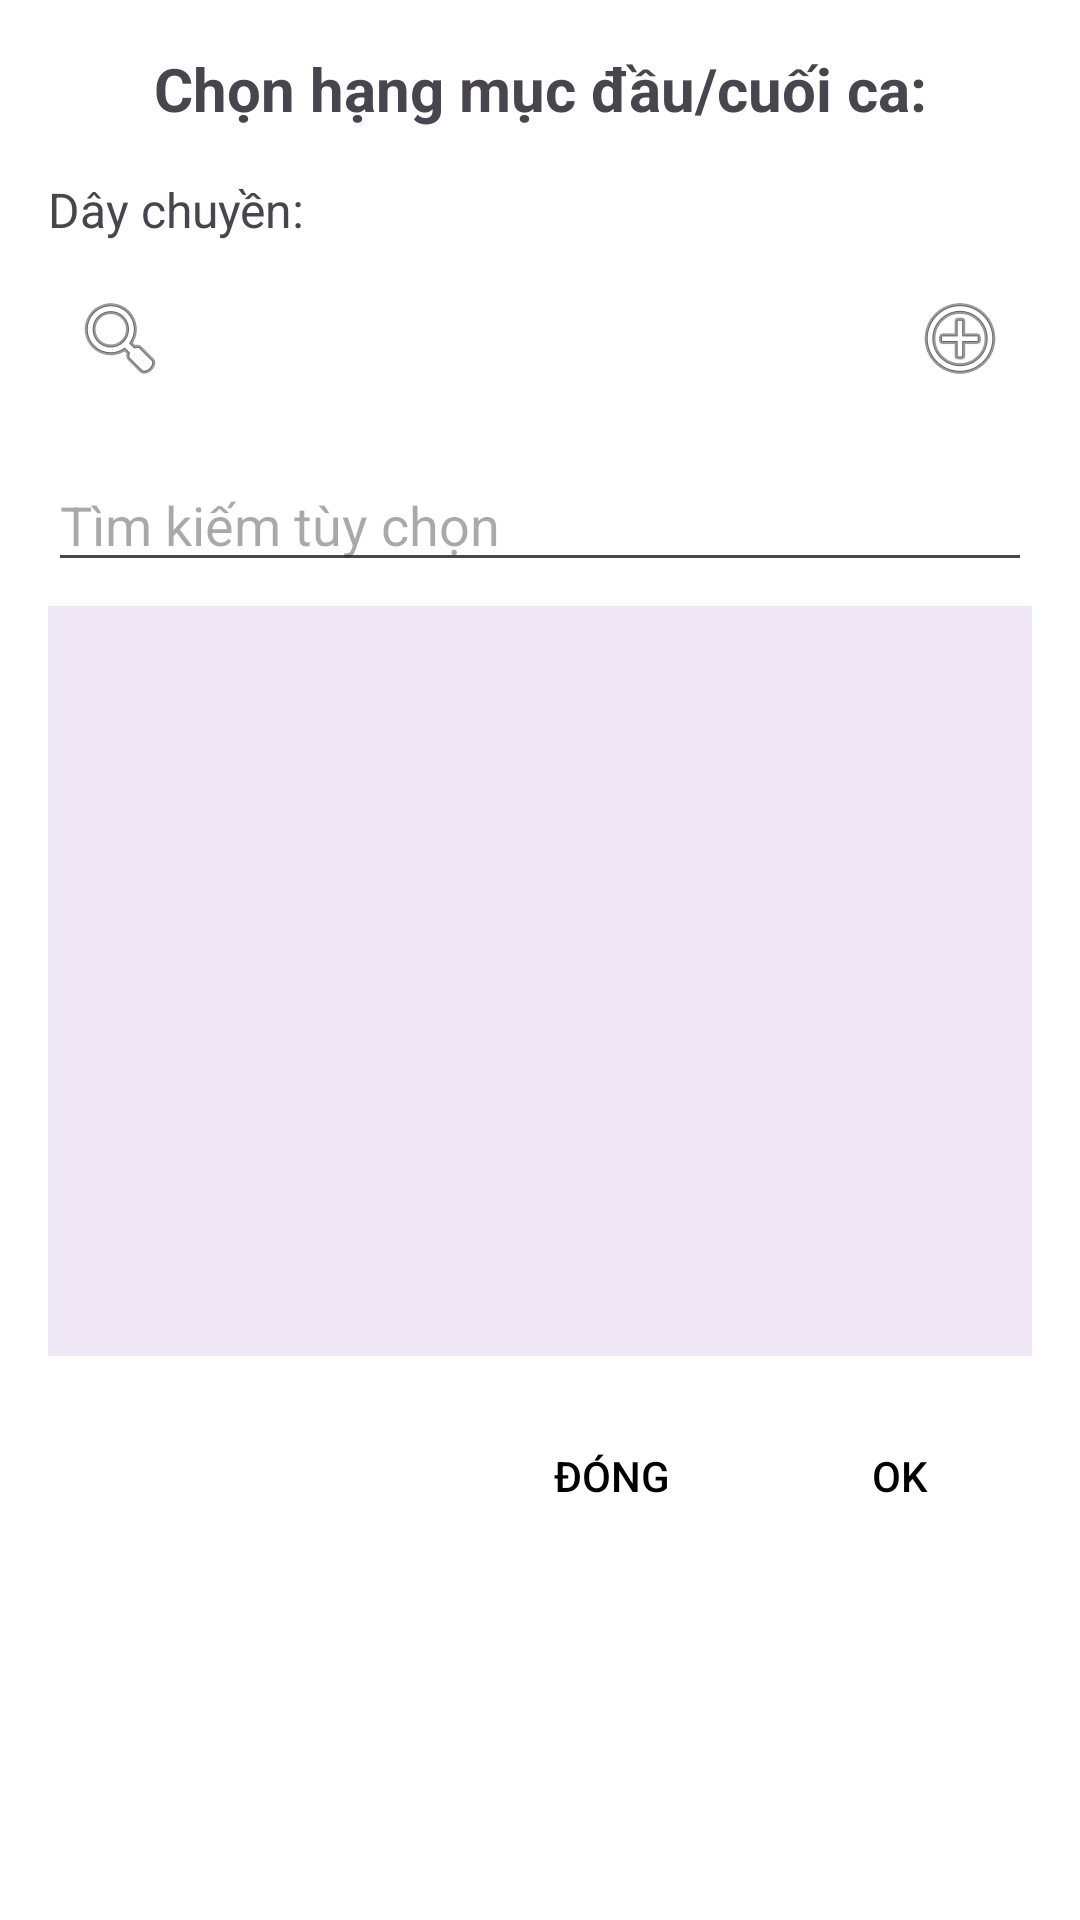

Locate icon controls on the screen. Image size 1080w x 1920h, boxes as (x1, y1, x2, y2).
add: (924, 303, 996, 374)
search: (84, 303, 156, 374)
